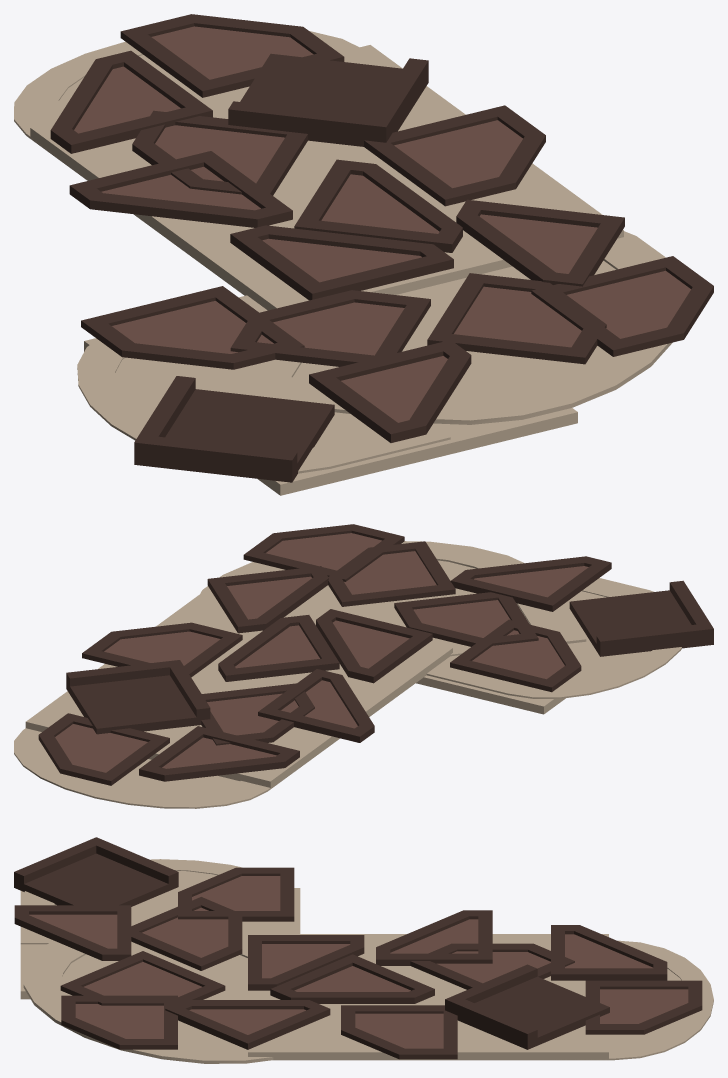
File: CornerPath.model.fbx
3 renders of one model, top to bottom at view 1: azimuth 30°, elevation 25°; view 2: azimuth 150°, elevation 25°; view 3: azimuth 270°, elevation 25°, orthographic. The views are drawn at different scales.
Visible parts, largest first — view 1: roof_flat_largeCenter_15, roof_flat_round_20, roof_flat_largeCorner_11, roof_flat_largeCorner_10, roof_flat_round_17, roof_flat_corner_small_12, roof_flat_corner_small_8, roof_flat_corner_small_14, roof_flat_corner_small_19, roof_flat_corner_small_5, roof_flat_corner_large_9, roof_flat_corner_small_7 (+8 smaller); view 2: roof_flat_largeCenter_15, roof_flat_largeCorner_10, roof_flat_largeCorner_11, roof_flat_round_16, roof_flat_round_17, roof_flat_round_20, roof_flat_corner_small_8, roof_flat_corner_small_5, roof_flat_corner_small_14, roof_flat_corner_large_4, roof_flat_corner_small_7, roof_flat_corner_large_13 (+8 smaller); view 3: roof_flat_largeCenter_15, roof_flat_round_20, roof_flat_largeCorner_10, roof_flat_largeCorner_11, roof_flat_corner_small_12, roof_flat_corner_small_8, roof_flat_corner_small_5, roof_flat_corner_small_7, roof_flat_corner_large_18, roof_flat_corner_large_2, roof_flat_corner_small_14, roof_flat_corner_small_19 (+8 smaller).
Boxes of the visible parts, x1=… form: roof_flat_largeCenter_15: x1=30, y1=45, x2=623, y2=310; roof_flat_round_20: x1=232, y1=231, x2=672, y2=424; roof_flat_largeCorner_11: x1=134, y1=376, x2=334, y2=482; roof_flat_largeCorner_10: x1=228, y1=53, x2=428, y2=146; roof_flat_round_17: x1=77, y1=295, x2=450, y2=473; roof_flat_corner_small_12: x1=364, y1=105, x2=545, y2=206; roof_flat_corner_small_8: x1=427, y1=273, x2=606, y2=364; roof_flat_corner_small_14: x1=81, y1=286, x2=304, y2=369; roof_flat_corner_small_19: x1=531, y1=256, x2=713, y2=356; roof_flat_corner_small_5: x1=120, y1=14, x2=344, y2=97; roof_flat_corner_large_9: x1=230, y1=225, x2=453, y2=300; roof_flat_corner_small_7: x1=230, y1=290, x2=430, y2=366; roof_flat_largeCenter_15: x1=25, y1=588, x2=452, y2=788; roof_flat_largeCorner_10: x1=66, y1=660, x2=210, y2=734; roof_flat_largeCorner_11: x1=569, y1=580, x2=713, y2=656; roof_flat_round_16: x1=14, y1=728, x2=316, y2=808; roof_flat_round_17: x1=426, y1=578, x2=681, y2=698; roof_flat_round_20: x1=200, y1=541, x2=586, y2=656; roof_flat_corner_small_8: x1=328, y1=541, x2=455, y2=606; roof_flat_corner_small_5: x1=38, y1=713, x2=169, y2=785; roof_flat_corner_small_14: x1=450, y1=619, x2=581, y2=692; roof_flat_corner_large_4: x1=139, y1=726, x2=299, y2=781; roof_flat_corner_small_7: x1=394, y1=592, x2=538, y2=646; roof_flat_corner_large_13: x1=450, y1=556, x2=611, y2=611; roof_flat_largeCenter_15: x1=248, y1=934, x2=608, y2=1060; roof_flat_round_20: x1=23, y1=897, x2=273, y2=1063; roof_flat_largeCorner_10: x1=445, y1=964, x2=609, y2=1049; roof_flat_largeCorner_11: x1=14, y1=837, x2=178, y2=906; roof_flat_corner_small_12: x1=341, y1=1005, x2=457, y2=1059; roof_flat_corner_small_8: x1=60, y1=951, x2=225, y2=1005; roof_flat_corner_small_5: x1=585, y1=980, x2=702, y2=1034; roof_flat_corner_small_7: x1=131, y1=897, x2=242, y2=970; roof_flat_corner_large_18: x1=165, y1=1000, x2=330, y2=1049; roof_flat_corner_large_2: x1=270, y1=954, x2=434, y2=1003; roof_flat_corner_small_14: x1=178, y1=867, x2=294, y2=921; roof_flat_corner_small_19: x1=61, y1=995, x2=177, y2=1049.
Size of the model in its own units: 44.07 by 3.5 by 60.07.
